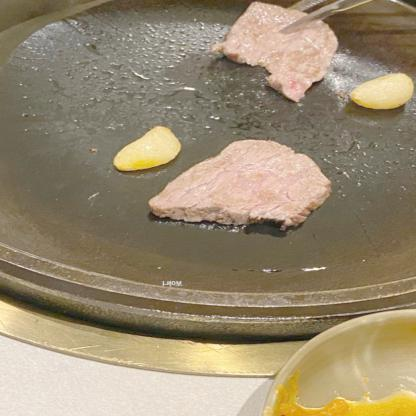Carne: (139, 135, 334, 235), (222, 31, 342, 96)
